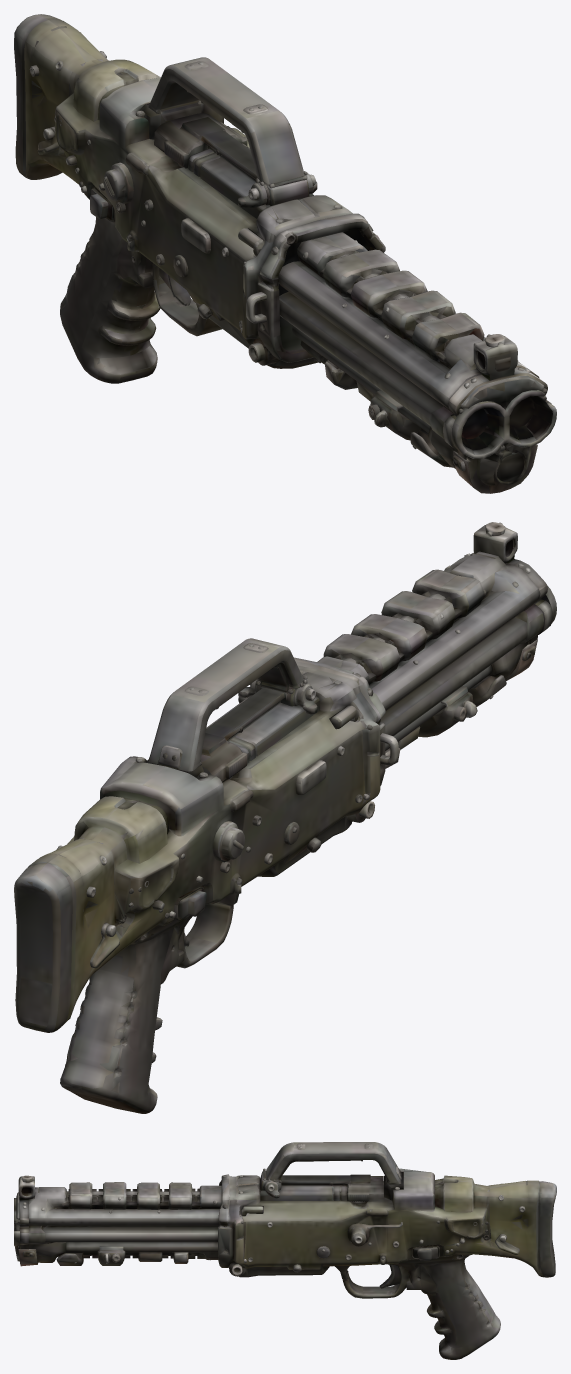
Rendered from inf_minigun.glb.
3 renders of one model, top to bottom at view 1: azimuth 30°, elevation 25°; view 2: azimuth 150°, elevation 25°; view 3: azimuth 270°, elevation 25°, orthographic. The views are drawn at different scales.
Parts seen in each view (by area): view 1: tripo_node_ae8c079c-1eb1-460e-a496-957e9760bca0; view 2: tripo_node_ae8c079c-1eb1-460e-a496-957e9760bca0; view 3: tripo_node_ae8c079c-1eb1-460e-a496-957e9760bca0.
Part boxes in pixels (x1,y1,x2,y2): tripo_node_ae8c079c-1eb1-460e-a496-957e9760bca0: [14, 14, 556, 493]; tripo_node_ae8c079c-1eb1-460e-a496-957e9760bca0: [14, 522, 556, 1113]; tripo_node_ae8c079c-1eb1-460e-a496-957e9760bca0: [14, 1142, 556, 1359].
Bounding box in the file's own units: 0.1949 × 0.4233 × 0.9995.
Materials: 1 (1 with a texture image).
